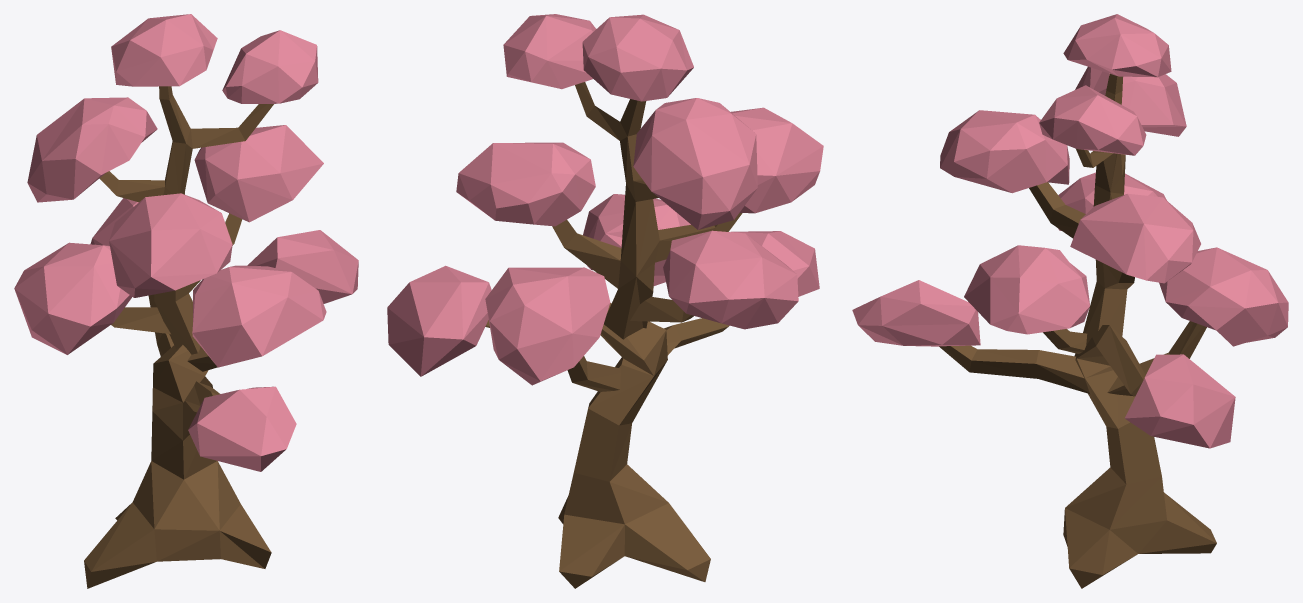
The model's file is plant_L04.FBX.
3 views of the same model, side by side, from view 1: azimuth 30°, elevation 25°; view 2: azimuth 150°, elevation 25°; view 3: azimuth 270°, elevation 25° (orthographic). The views are drawn at different scales.
Parts seen in each view (by area): view 1: Plant_L04; view 2: Plant_L04; view 3: Plant_L04.
Part boxes in pixels (left/top/right/bottom): Plant_L04: left=14, top=14, right=358, bottom=588; Plant_L04: left=387, top=14, right=823, bottom=588; Plant_L04: left=852, top=14, right=1288, bottom=588.
Bounding box in the file's own units: 252 × 366 × 272.
Materials: 1 (1 with a texture image).
